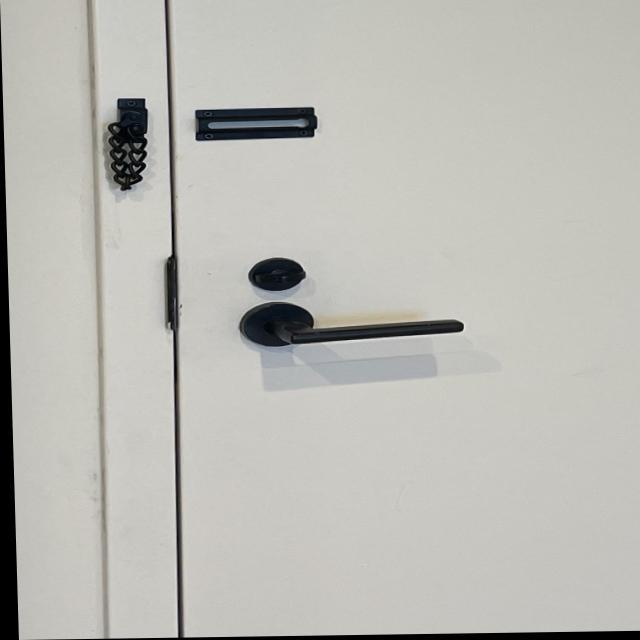door_handle: (236, 310, 477, 360)
